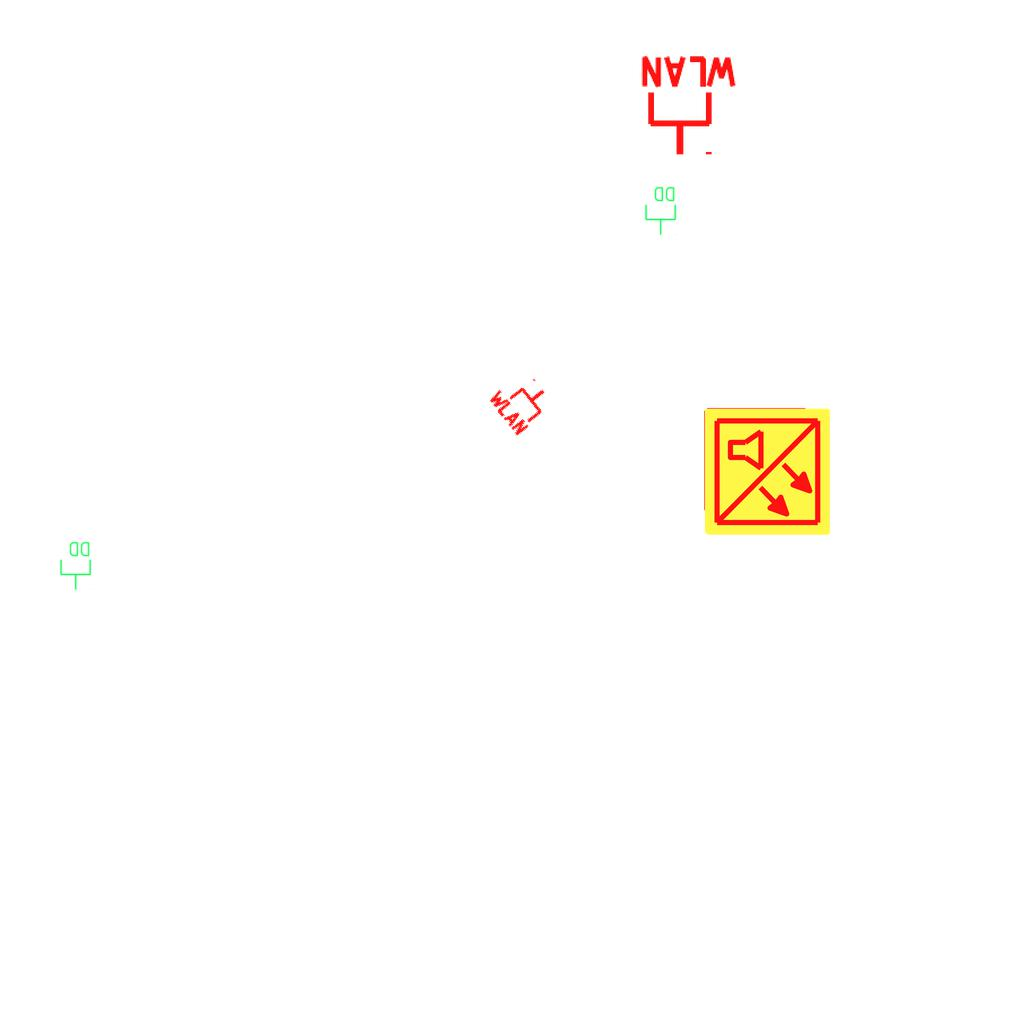Datenanschluss_zweifach: (59, 540, 93, 591), (644, 185, 678, 236)
OKW_Multisensormelder_(Kombination_optischer_Rauch-Kahlenmonoxid_Waerme-Melder): (701, 406, 833, 538)
WLAN: (637, 54, 741, 159), (485, 365, 559, 439)
